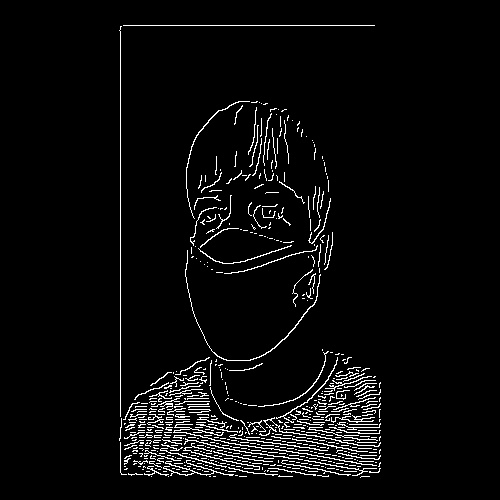mask: (186, 240, 318, 359)
